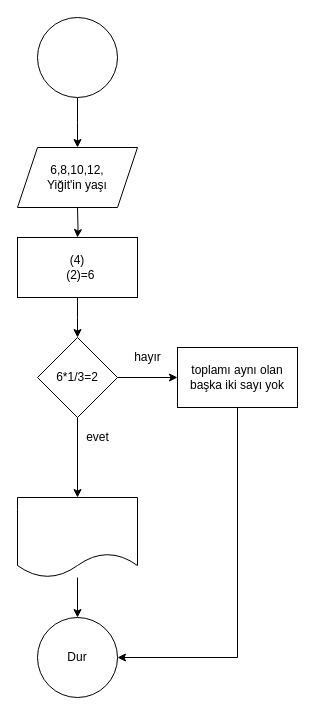
Some shapes in this 315 by 715 pixel diagram are drawn without their labels. The box of each missing label's shape, as (x1, y1, x2, y2) in pixels:
Başla: (36, 16, 118, 98)
yiğitin yaşı=18: (16, 496, 138, 578)
